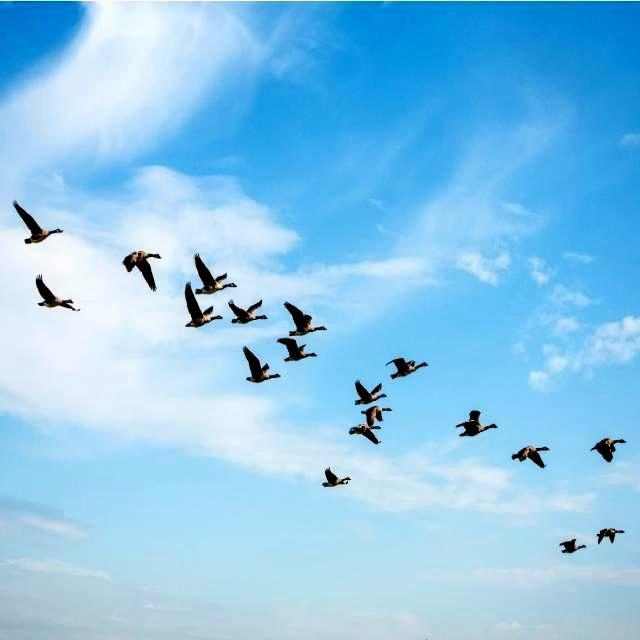bird: (28, 270, 84, 328), (10, 197, 64, 250), (282, 298, 338, 338), (120, 247, 166, 295), (445, 403, 497, 445), (182, 290, 223, 342), (192, 252, 240, 296), (237, 343, 280, 392), (584, 430, 632, 470), (507, 440, 555, 475), (276, 335, 321, 372), (386, 350, 432, 384), (227, 297, 271, 328), (314, 464, 353, 498), (593, 519, 631, 551), (351, 380, 392, 406), (362, 405, 407, 428), (557, 532, 591, 562), (348, 424, 382, 444)
